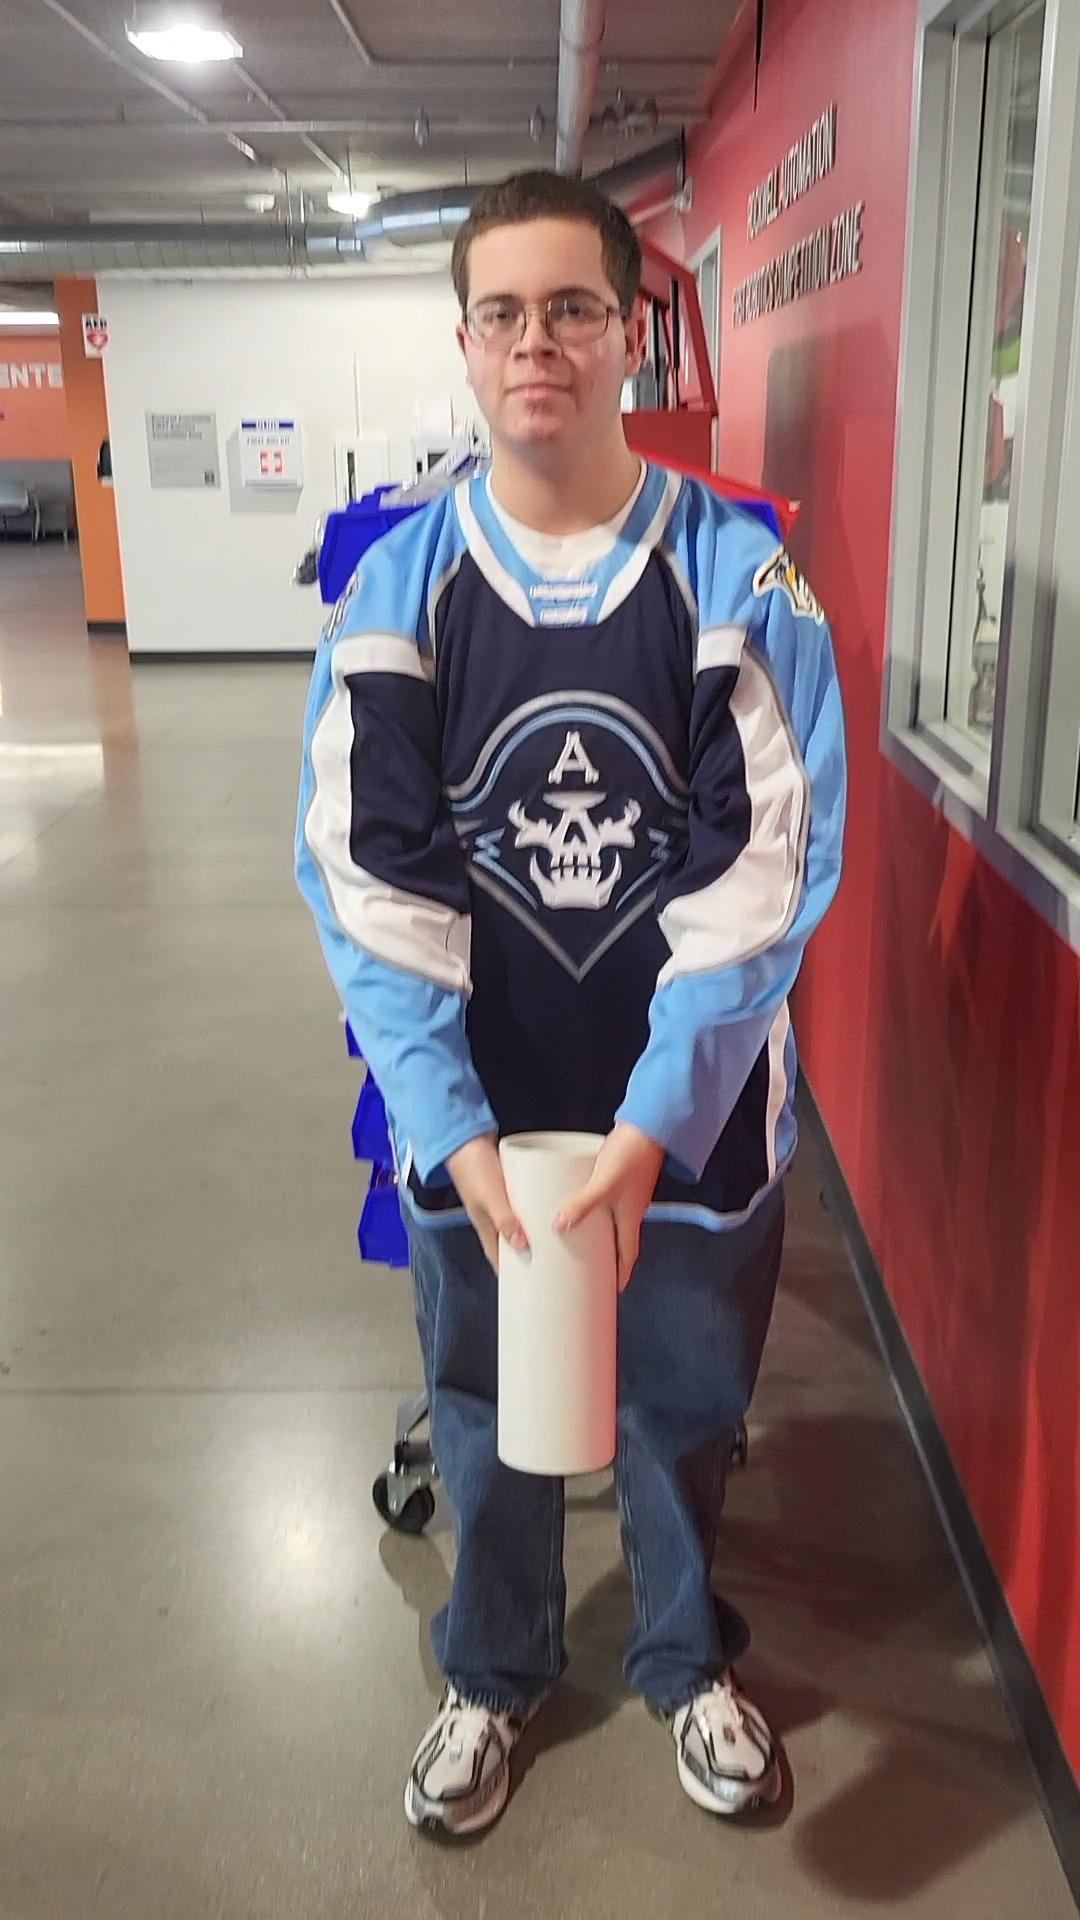coral: (487, 1125, 633, 1477)
